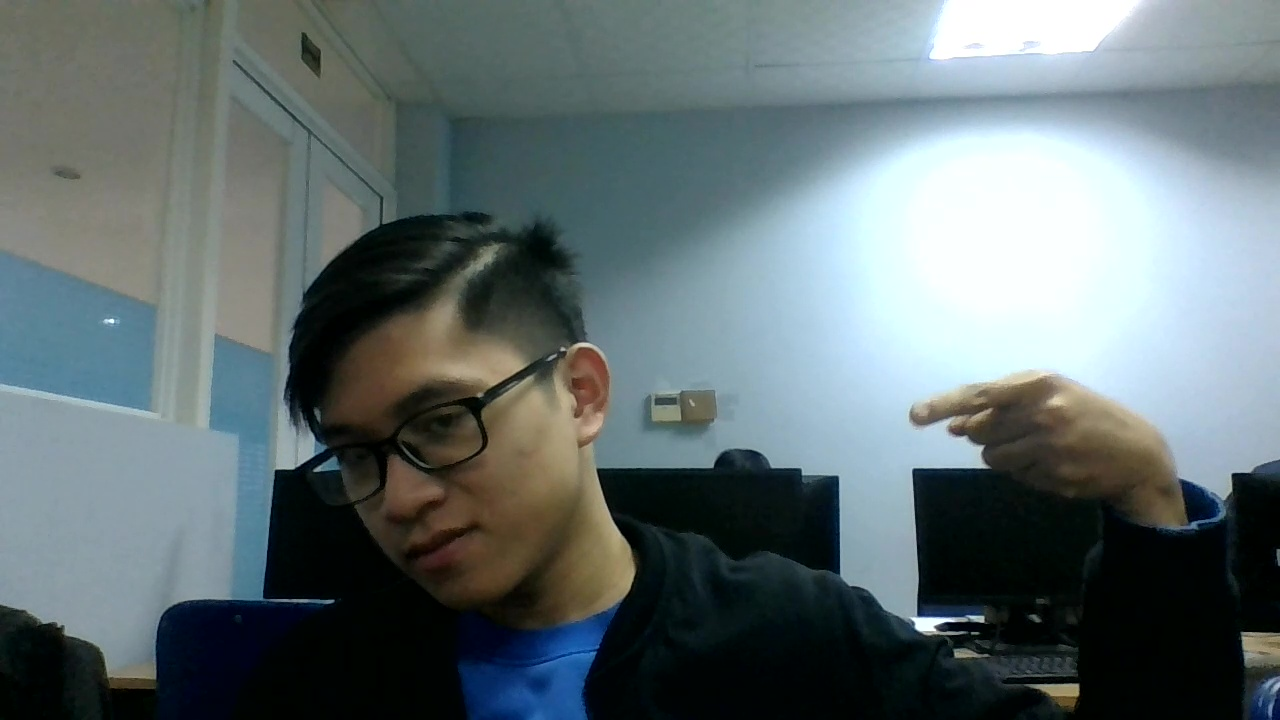right: (903, 366, 1189, 513)
